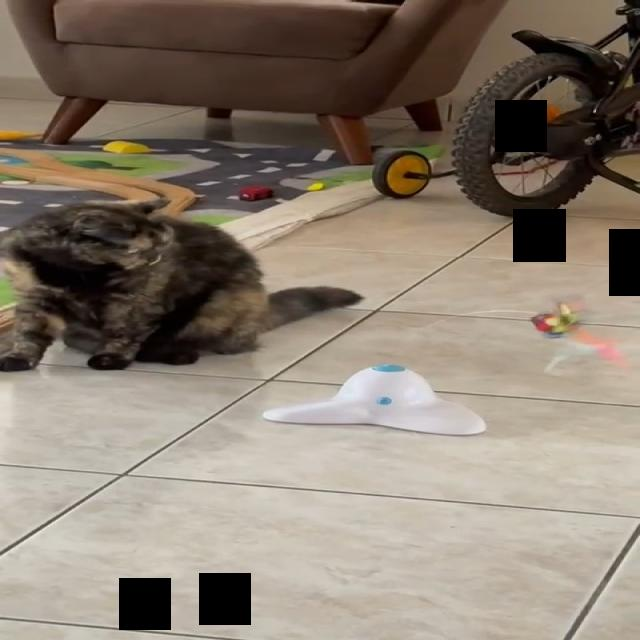authorized: (0, 196, 364, 372)
